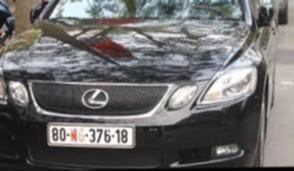License_Plate: (46, 119, 136, 151)
